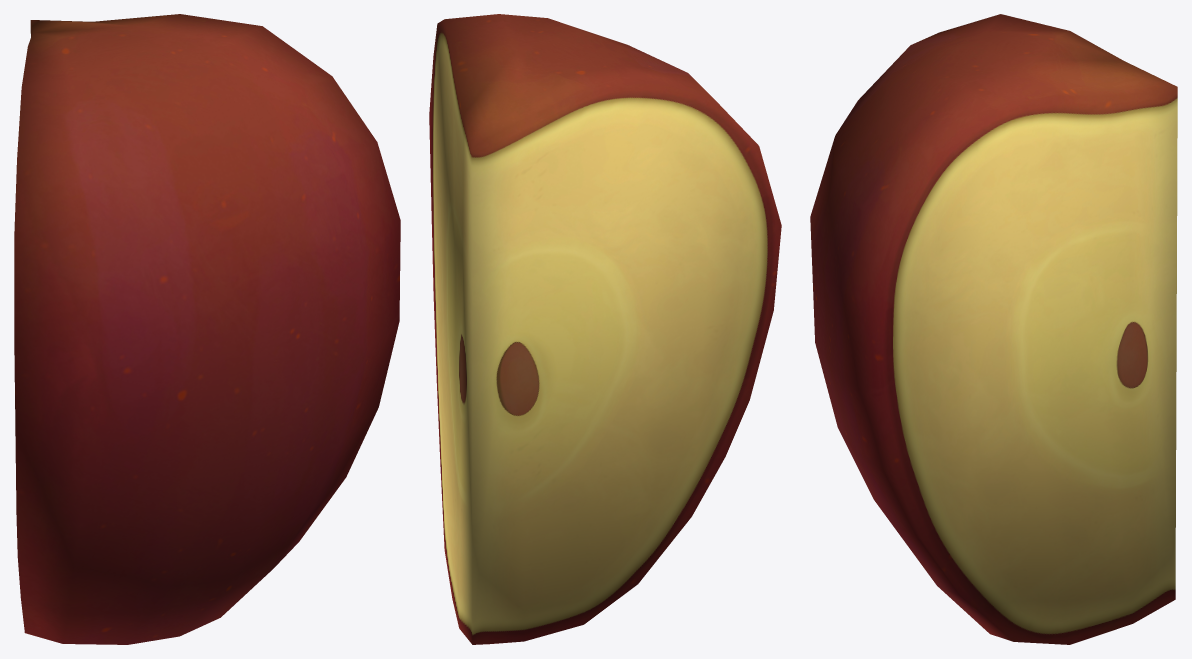
The model's file is Manzana6.fbx.
3 renders of one model, left to right at view 1: azimuth 30°, elevation 25°; view 2: azimuth 150°, elevation 25°; view 3: azimuth 270°, elevation 25°, orthographic. The views are drawn at different scales.
Visible parts, largest first — view 1: APPLE_red_Piece; view 2: APPLE_red_Piece; view 3: APPLE_red_Piece.
Boxes of the visible parts, <box> form: APPLE_red_Piece: <box>14,14,400,644</box>; APPLE_red_Piece: <box>429,14,781,644</box>; APPLE_red_Piece: <box>810,14,1177,644</box>.
Bounding box in the file's own units: 4.8 × 7.26 × 4.24.
